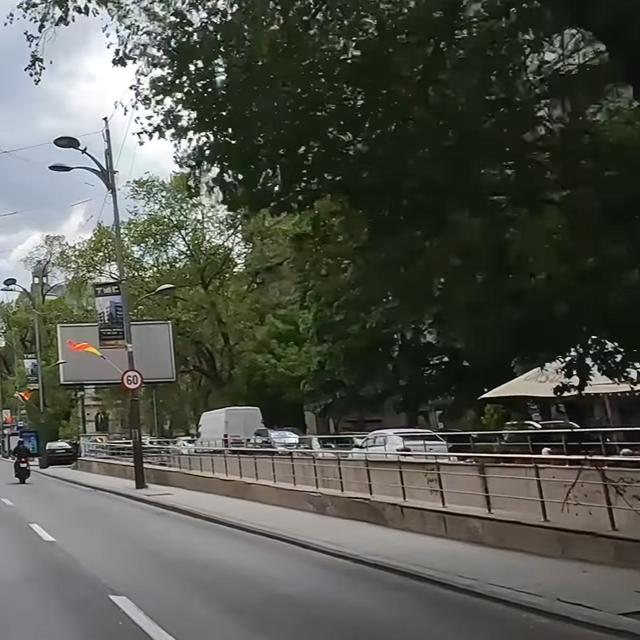forb_speed_over_60: (121, 368, 144, 390)
